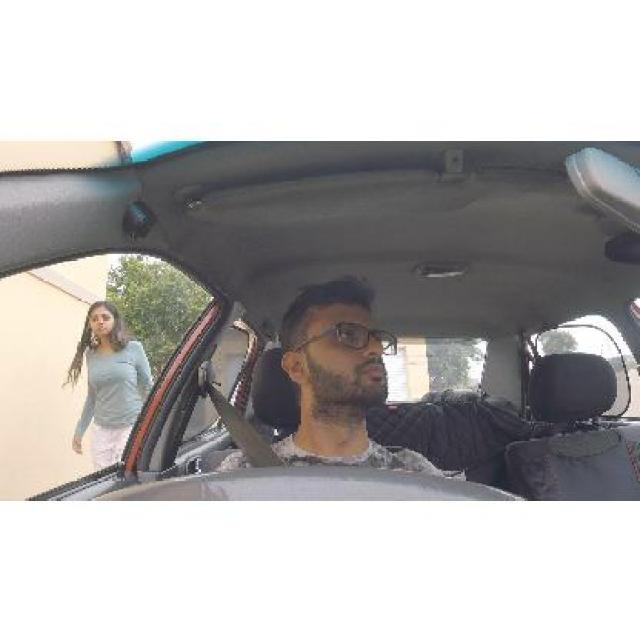person: (272, 280, 402, 424)
